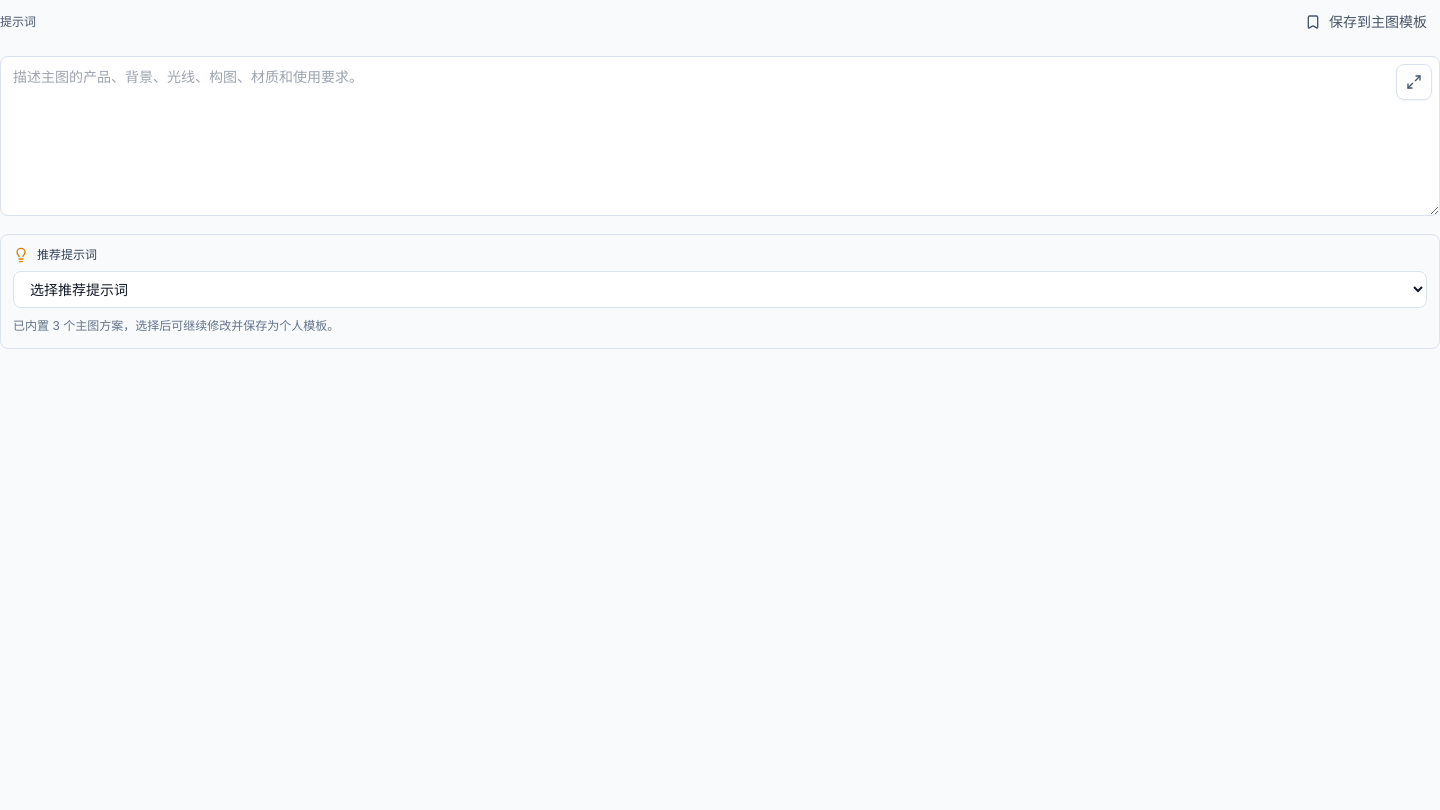
Test: PromptEditor › keeps real-time prompt changes when the expanded editor closes with Escape
This screenshot has width=1440, height=810.
Type "原始提示词" into the text box labelled "提示词" at (720,136), box left=0, top=56, right=1439, bottom=216
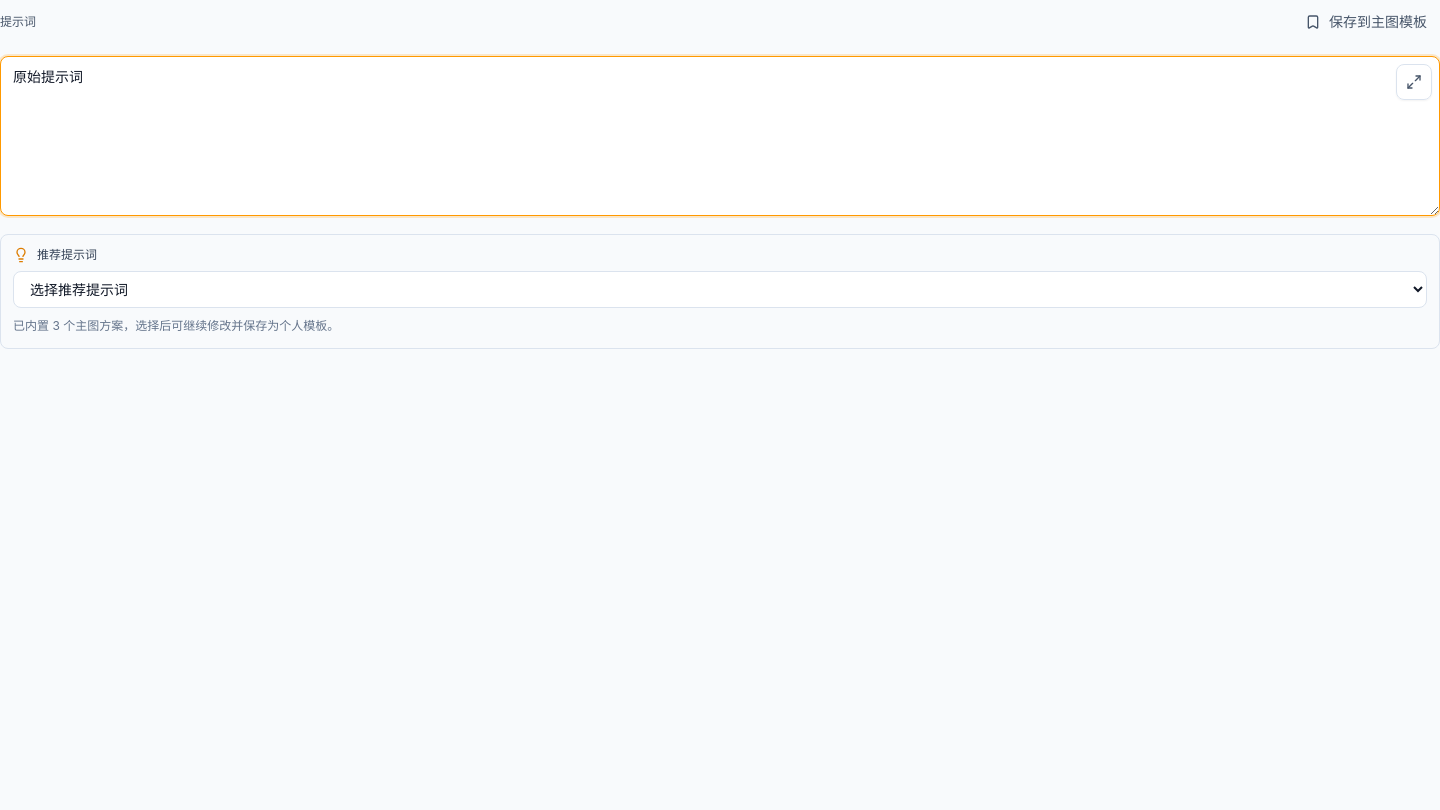
Click the button named "放大编辑提示词" at (1414,82), box left=1396, top=64, right=1432, bottom=100
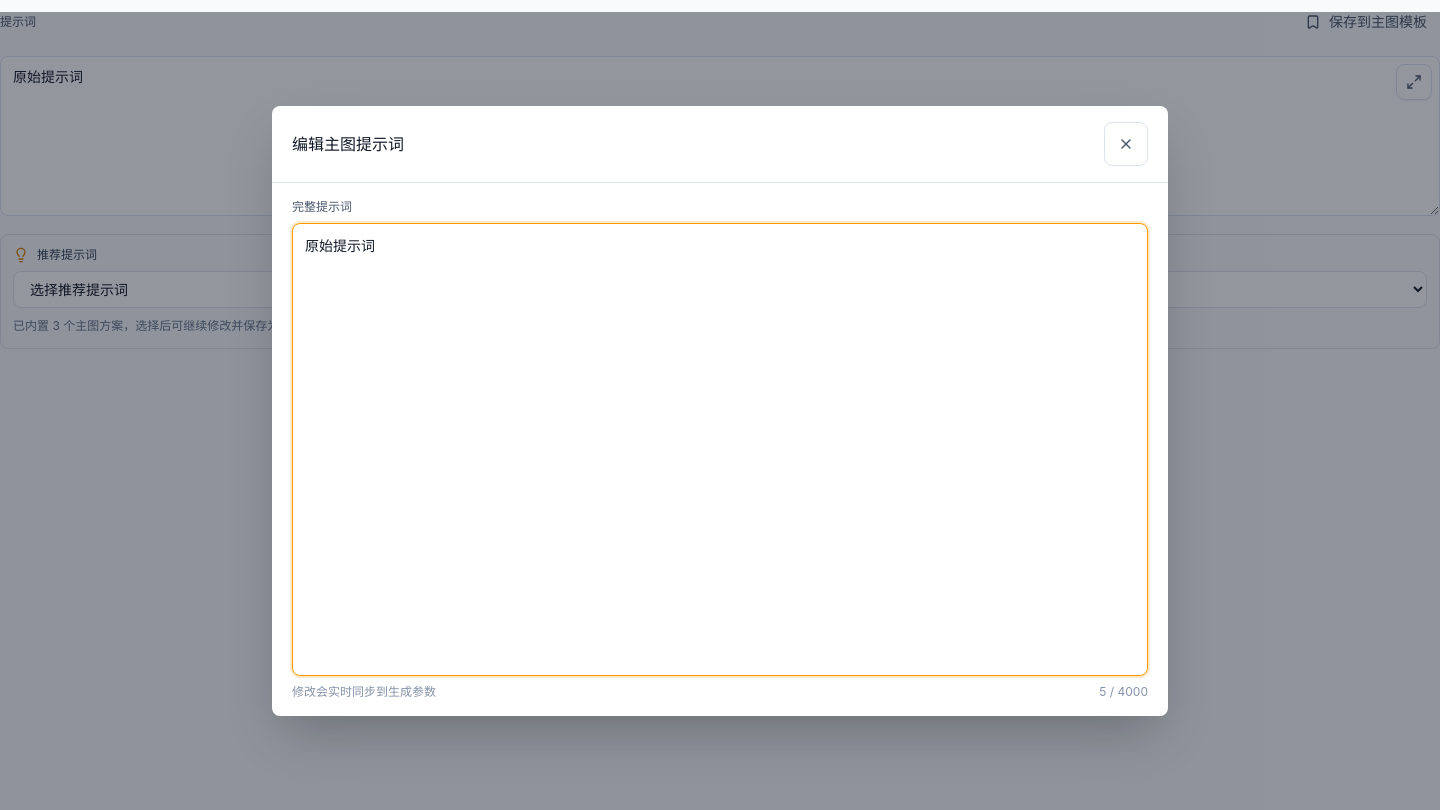
Replace the text in the text box labelled "完整提示词" with "实时同步的修改" at (720,450), box left=292, top=223, right=1148, bottom=676
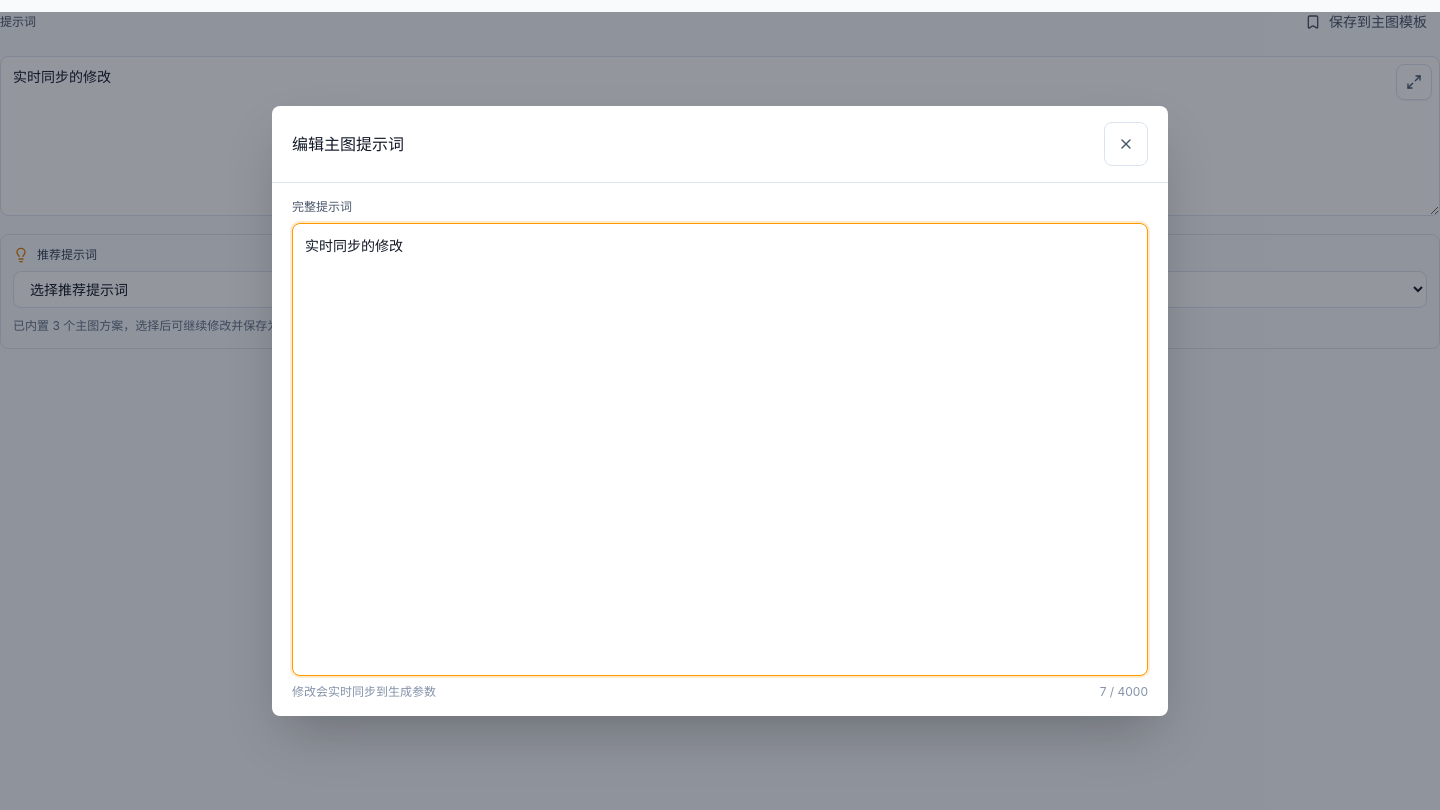
Result: the text box labelled "提示词" holds "实时同步的修改" at left=0, top=56, right=1439, bottom=216
Press Escape
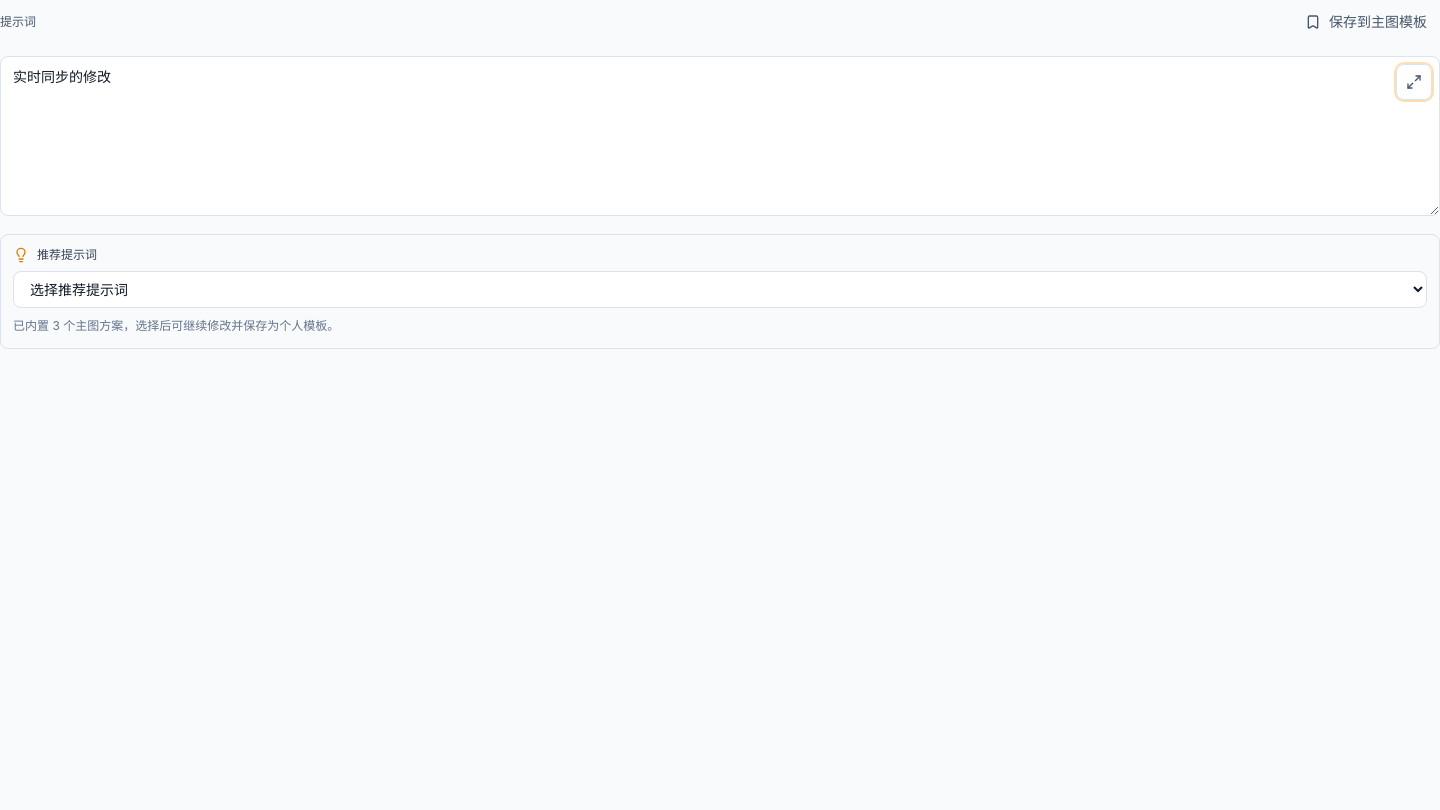
Result: the text box labelled "提示词" holds "实时同步的修改" at left=0, top=56, right=1439, bottom=216
Result: the heading "编辑主图提示词" is gone
